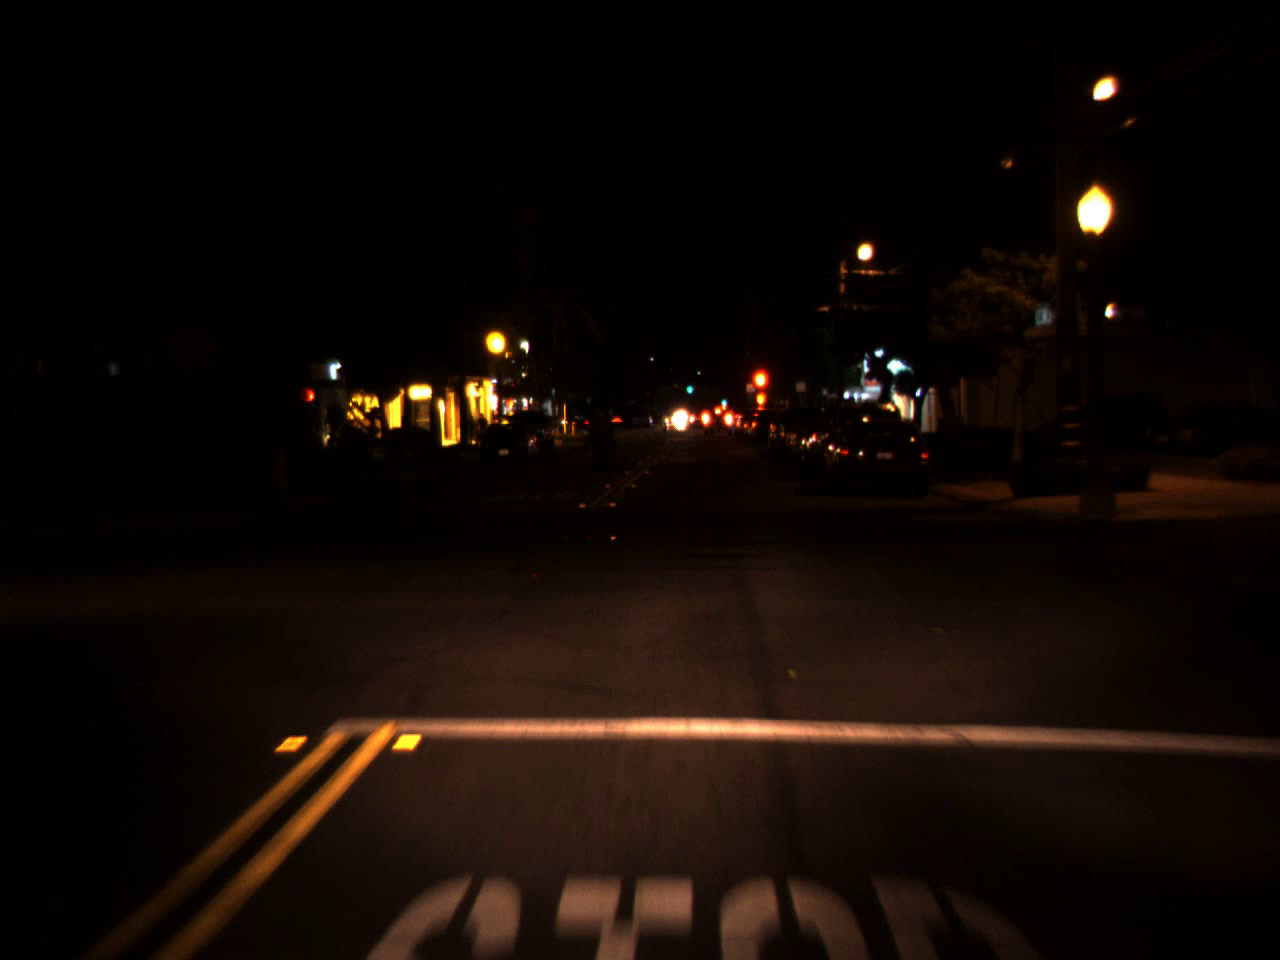go: (684, 378, 693, 396), (719, 392, 728, 407)
stop: (748, 365, 772, 416)
